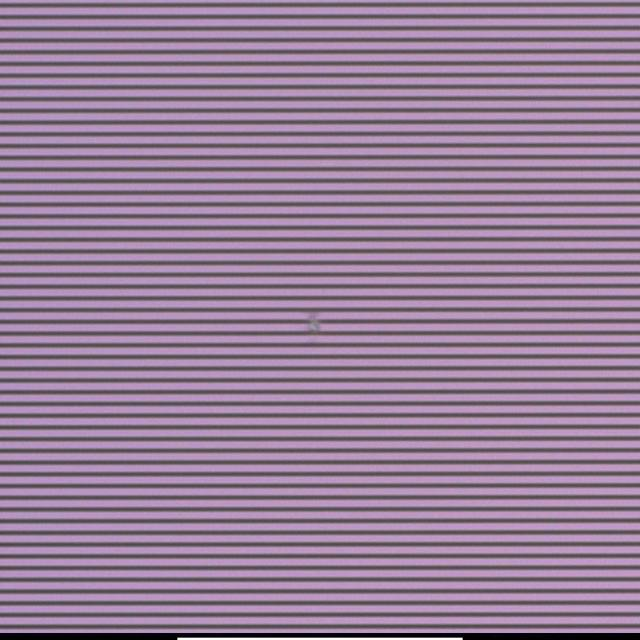nonvisual: (301, 309, 324, 337)
